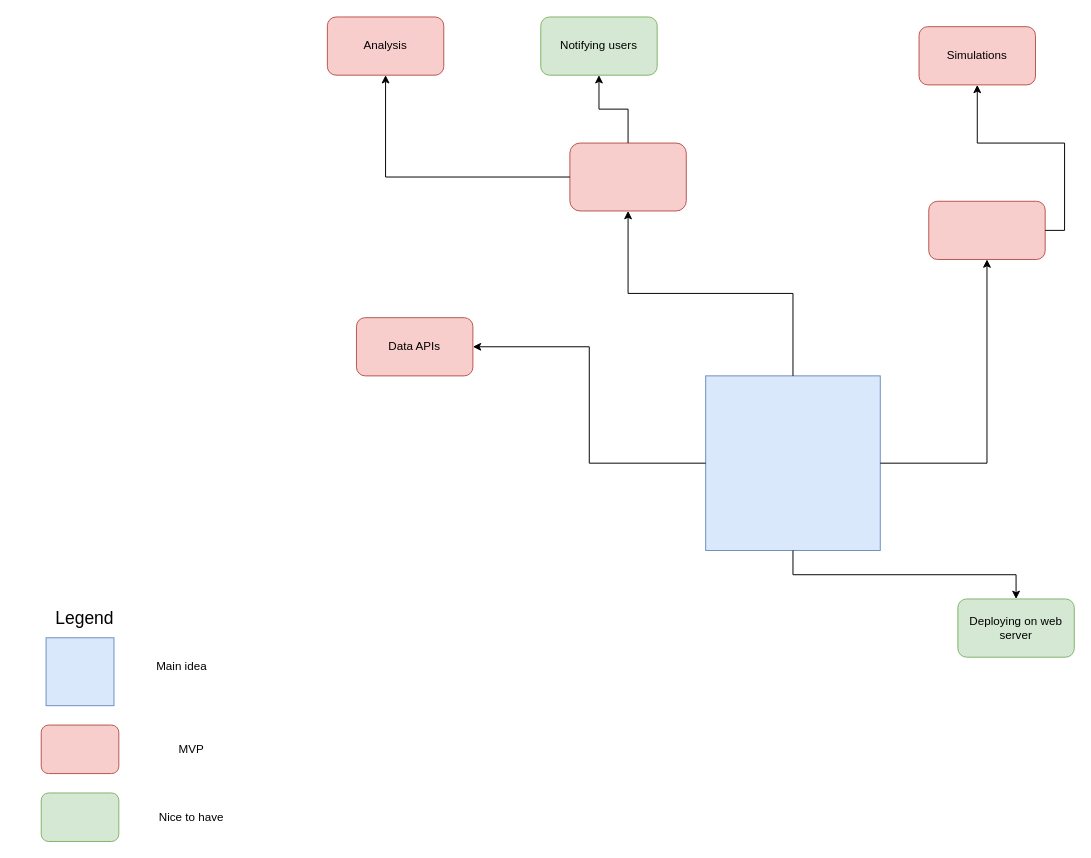
This 1091x858 diagram has some shape labels left out. Each missing label, with the centre of its shape:
Determine whether to buy/sell: (627,176)
Long term value of the portfolio: (986,229)
Trade 24/7: (792,462)
